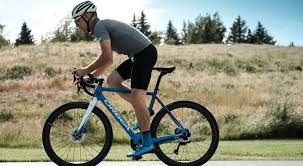helmet: (70, 1, 96, 16)
